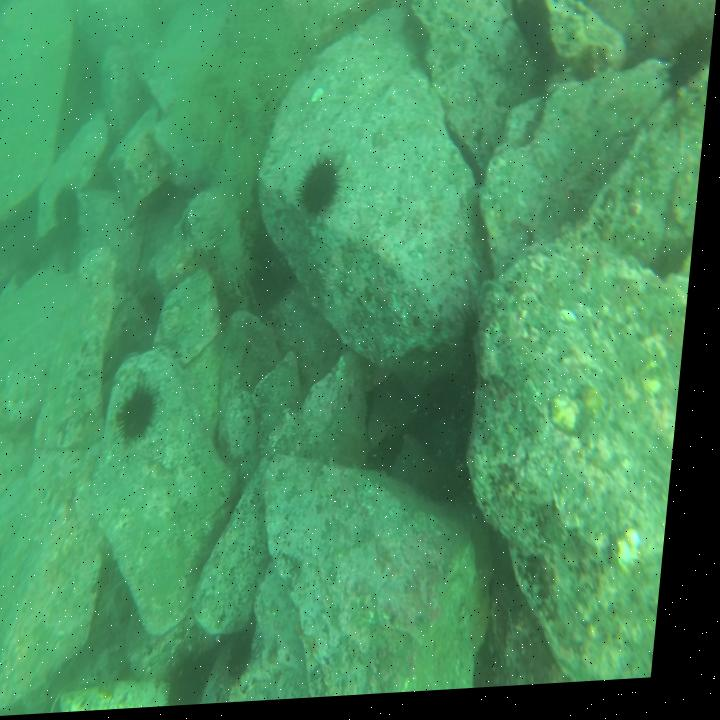echinus: (118, 374, 172, 451), (298, 153, 347, 232), (53, 180, 91, 246), (465, 303, 492, 358), (0, 534, 9, 606)
